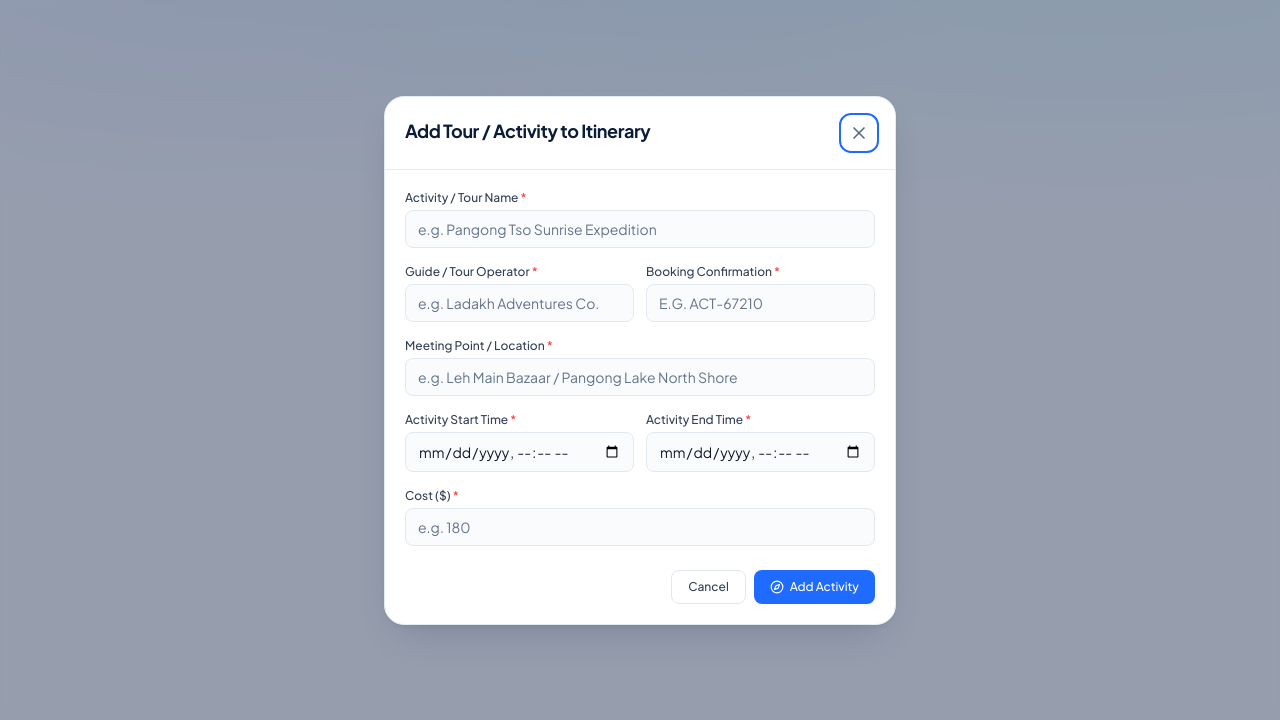
AddActivityModal › validates empty inputs on submit
expect the field labelled "Activity / Tour Name *" is shown: met, box [405, 210, 875, 248]
Click the button "Add Activity": (814, 586) [754, 570, 875, 604]
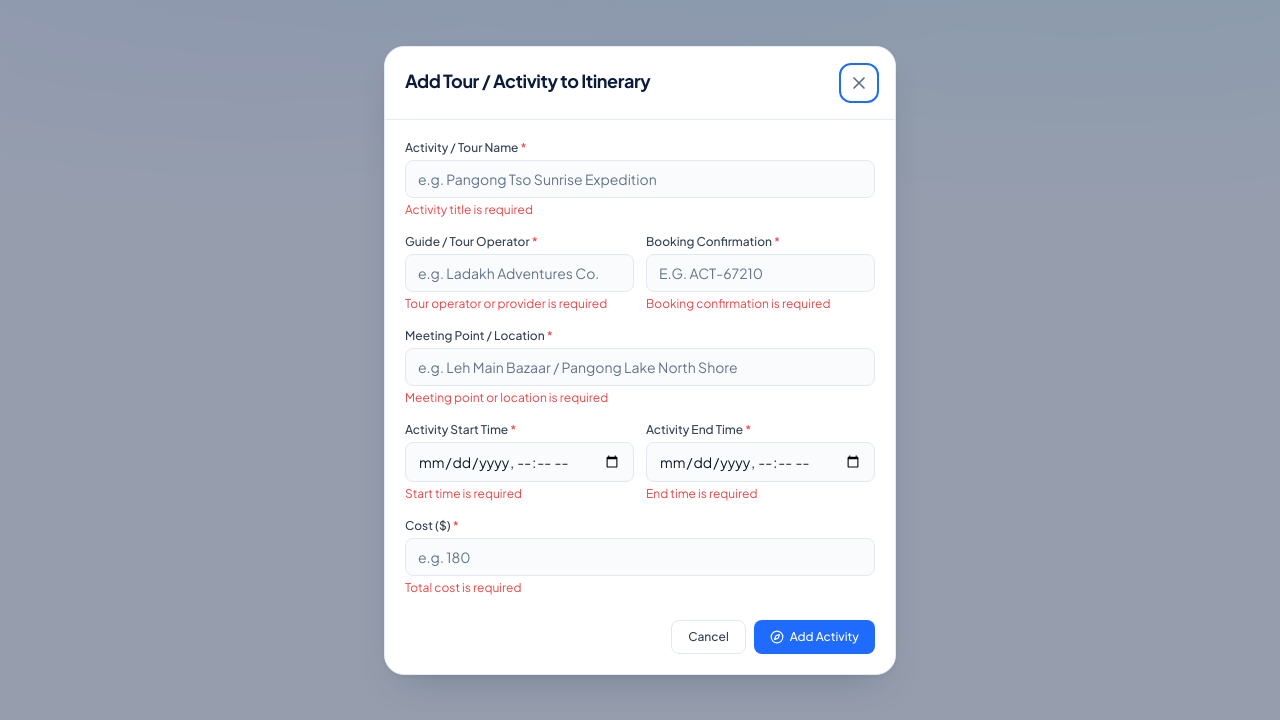
expect the text "Activity title is required" is shown: met, box [405, 202, 533, 216]
expect the text "Tour operator or provider is required" is shown: met, box [405, 296, 634, 312]
expect the text "Booking confirmation is required" is shown: met, box [646, 296, 830, 310]
